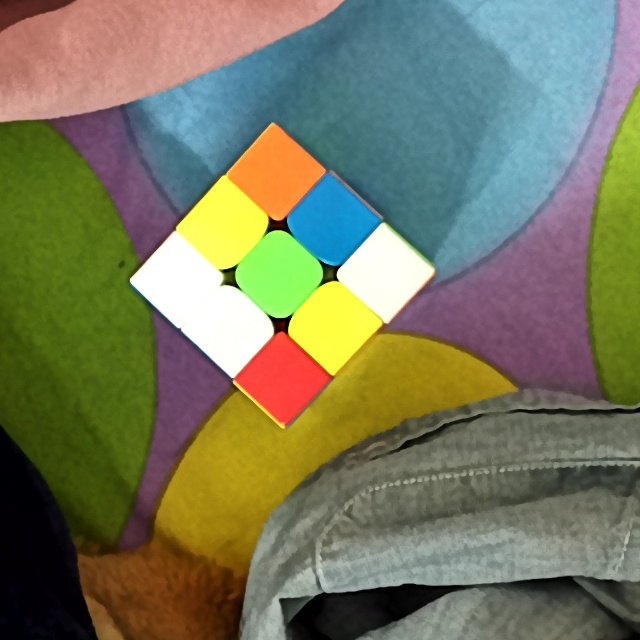tile: (201, 203, 251, 253), (253, 148, 302, 199), (308, 299, 357, 349), (361, 249, 411, 298), (258, 252, 304, 302), (152, 255, 199, 302), (307, 200, 353, 246), (206, 306, 253, 351), (261, 352, 306, 398)
